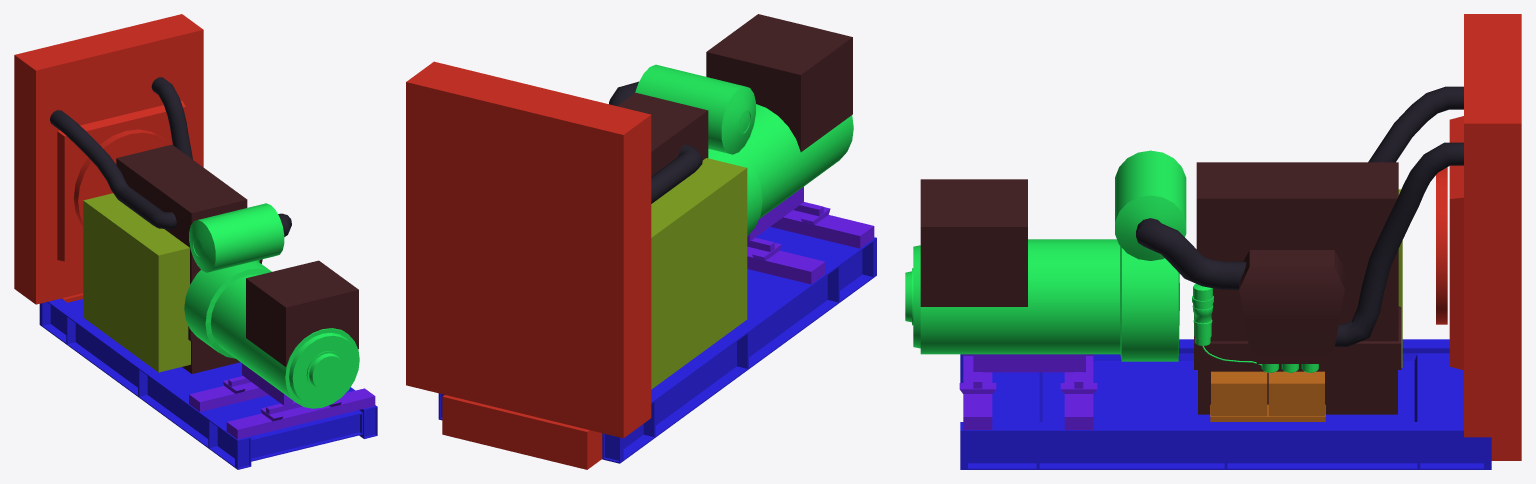
Rendered from Generator_low.fbx.
3 views of the same model, side by side, from view 1: azimuth 30°, elevation 25°; view 2: azimuth 150°, elevation 25°; view 3: azimuth 270°, elevation 25° (orthographic). The views are drawn at different scales.
Visible parts, largest first — view 1: Generator_Back_low, Generator_Main_low, Genrator_Tank_low, Genrator_Dashboard_low, Generator_Base_low, Generator_Support_low, Generator_Pipe_low; view 2: Generator_Back_low, Genrator_Dashboard_low, Generator_Main_low, Generator_Base_low, Genrator_Tank_low, Generator_Support_low, Generator_Pipe_low; view 3: Generator_Main_low, Generator_Base_low, Generator_Back_low, Genrator_Tank_low, Generator_Pipe_low, Generator_Support_low, Generator_Battery_low.
Boxes of the visible parts, x1=… form: Generator_Back_low: x1=14, y1=14, x2=203, y2=304; Generator_Main_low: x1=116, y1=144, x2=358, y2=373; Genrator_Tank_low: x1=184, y1=203, x2=359, y2=408; Genrator_Dashboard_low: x1=83, y1=193, x2=190, y2=372; Generator_Base_low: x1=39, y1=298, x2=377, y2=469; Generator_Support_low: x1=189, y1=363, x2=375, y2=439; Generator_Pipe_low: x1=50, y1=77, x2=291, y2=236; Generator_Back_low: x1=406, y1=61, x2=651, y2=469; Genrator_Dashboard_low: x1=651, y1=158, x2=747, y2=389; Generator_Main_low: x1=617, y1=14, x2=852, y2=176; Generator_Base_low: x1=438, y1=227, x2=876, y2=463; Genrator_Tank_low: x1=635, y1=64, x2=853, y2=235; Generator_Support_low: x1=747, y1=187, x2=874, y2=284; Generator_Pipe_low: x1=609, y1=81, x2=702, y2=203; Generator_Main_low: x1=920, y1=162, x2=1401, y2=414; Generator_Base_low: x1=960, y1=339, x2=1491, y2=469; Generator_Back_low: x1=1436, y1=14, x2=1521, y2=460; Genrator_Tank_low: x1=905, y1=150, x2=1318, y2=372; Generator_Pipe_low: x1=1136, y1=86, x2=1463, y2=346; Generator_Support_low: x1=959, y1=354, x2=1097, y2=429; Generator_Battery_low: x1=1210, y1=371, x2=1325, y2=421.
Bounding box in the file's own units: 180 × 272 × 427.
